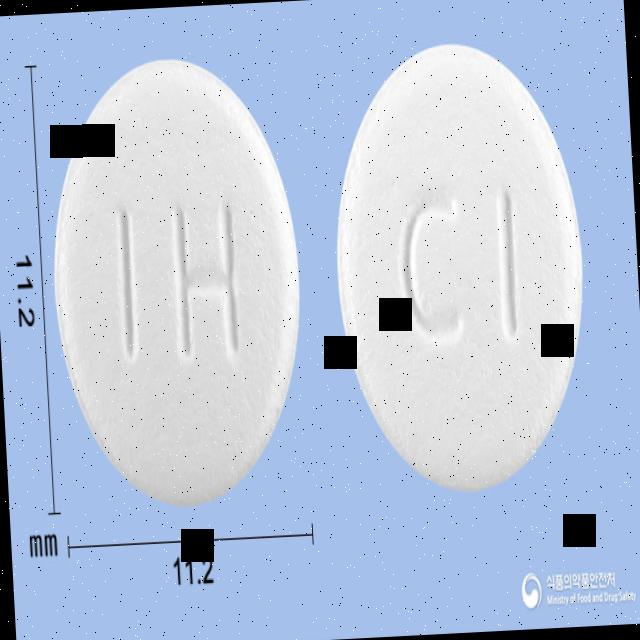Ciroxacin: (322, 24, 600, 503), (38, 41, 316, 519)
